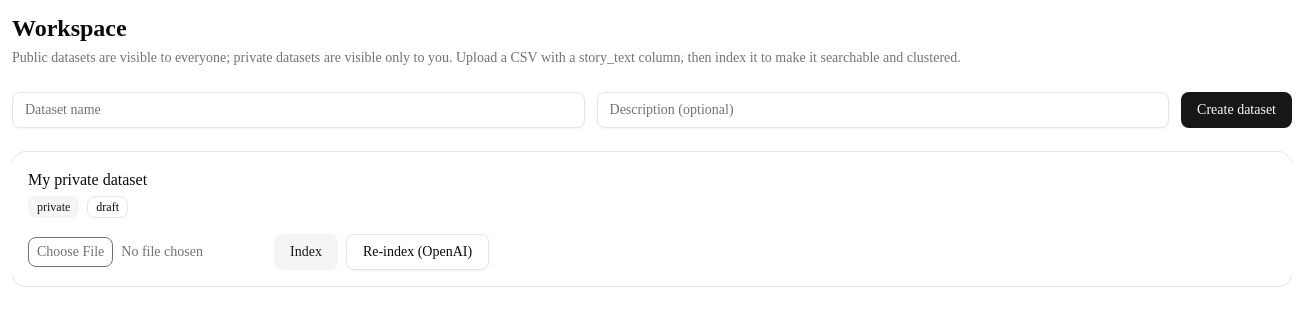
Test: WorkspacePage › shows upload/index controls for a private (owned) dataset, and polls job status
The width and height of the screenshot is (1304, 332).
expect the text "My private dataset" is shown: met, box [28,168,147,192]
Click the button "Index" at point(306, 252), box [274,234,338,270]
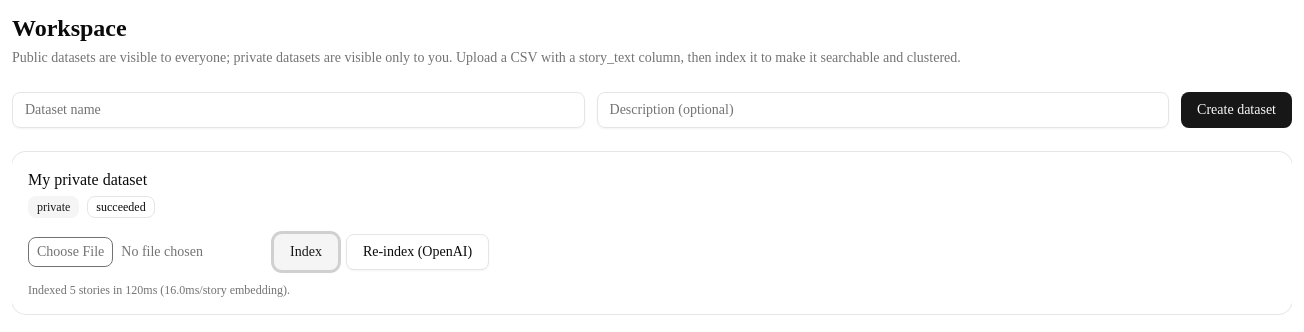
expect the text "Indexed 5 stories in 120ms (16.0ms/story embedding)." is shown: met, box [28,283,290,297]
